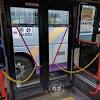exit: (5, 2, 78, 99)
